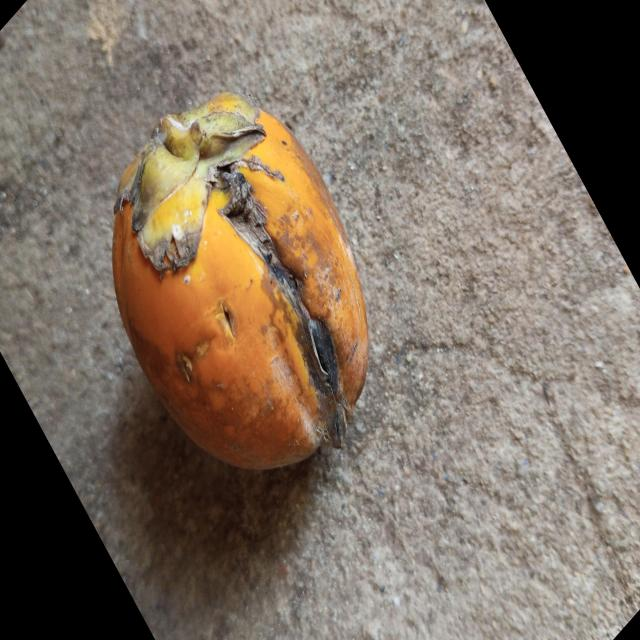damaged: (112, 93, 368, 469)
